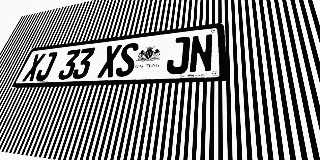3: (71, 47, 96, 79), (56, 49, 81, 80)
J: (165, 36, 190, 75), (34, 52, 58, 81)
N: (188, 33, 213, 73)
S: (114, 42, 140, 77)
X: (97, 44, 122, 78), (22, 53, 46, 82)
